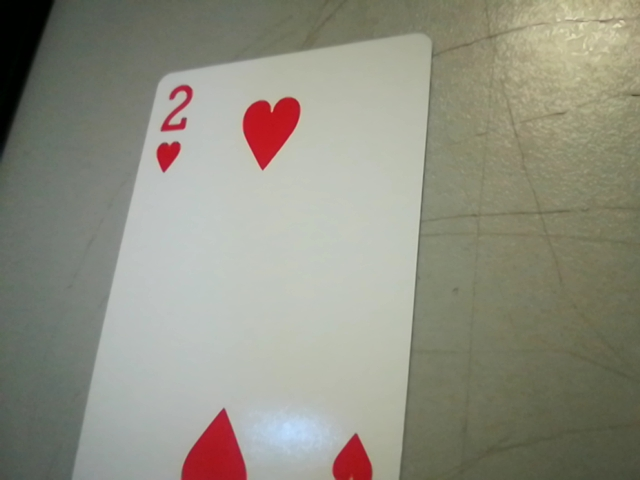hx 2: (141, 75, 207, 180)
